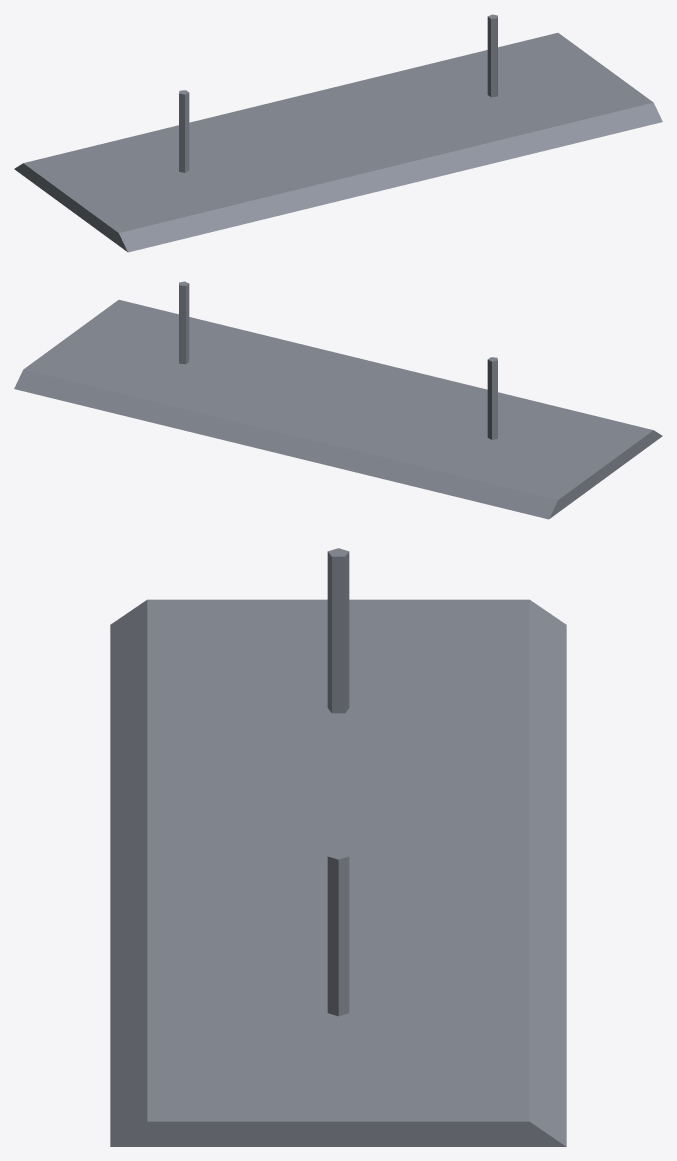
The model's file is Large Flourescent Light Emissive.fbx.
The picture shows the model from 3 angles, top to bottom: view 1: azimuth 30°, elevation 25°; view 2: azimuth 150°, elevation 25°; view 3: azimuth 270°, elevation 25°; orthographic projection. The views are drawn at different scales.
Visible parts, largest first — view 1: Large_Flourescent_Light; view 2: Large_Flourescent_Light; view 3: Large_Flourescent_Light.
Part boxes in pixels (x1,y1,x2,y2): Large_Flourescent_Light: (14,14,662,252); Large_Flourescent_Light: (14,281,662,519); Large_Flourescent_Light: (110,548,566,1146).
Bounding box in the file's own units: 9.16 × 1.49 × 3.38.
Materials: 2 (1 with a texture image).
